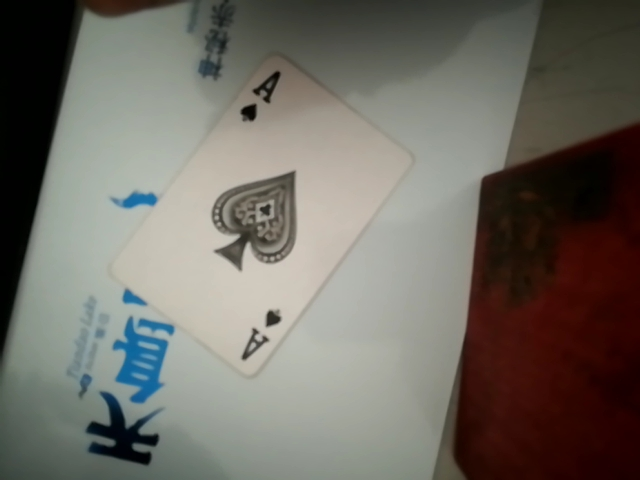ht a: (113, 47, 424, 370)
